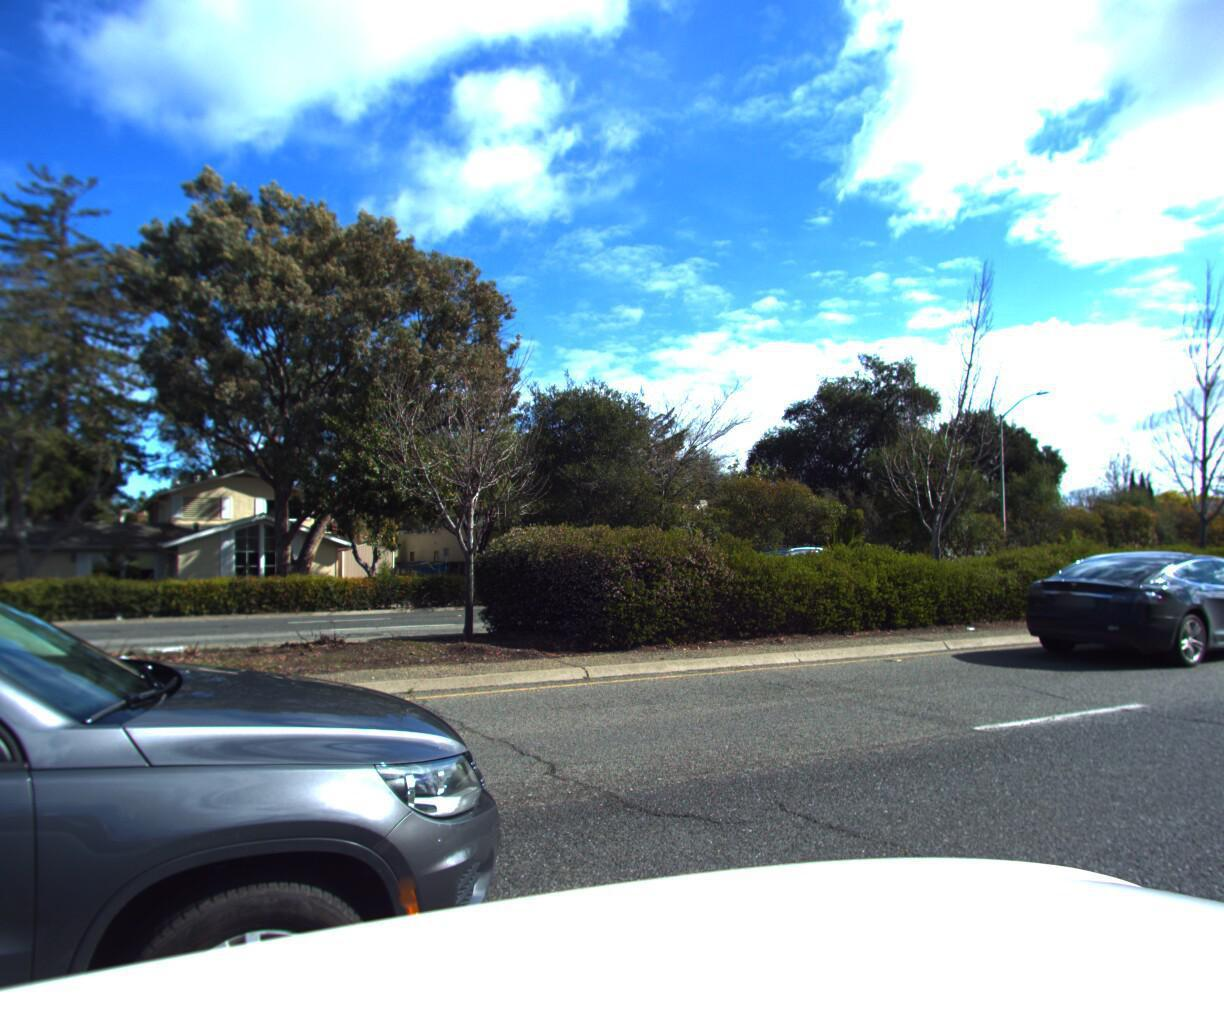car: (0, 361, 593, 1024), (1009, 549, 1224, 669)
